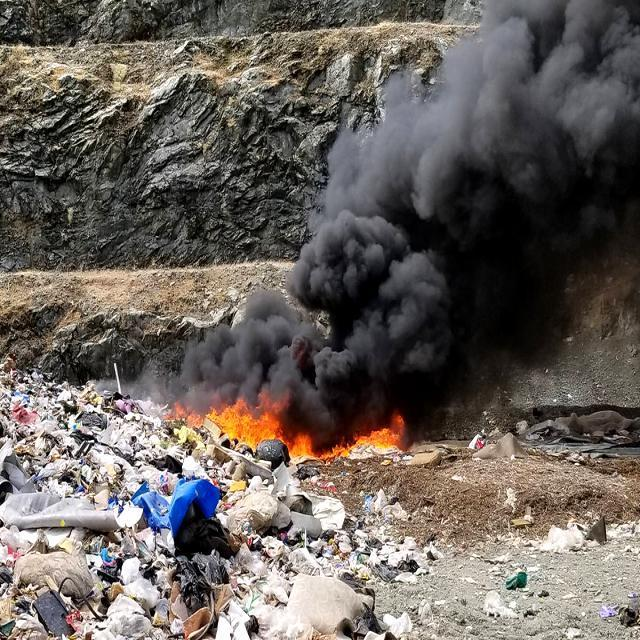Fire: (198, 402, 402, 460)
Smoke: (265, 0, 640, 504)
